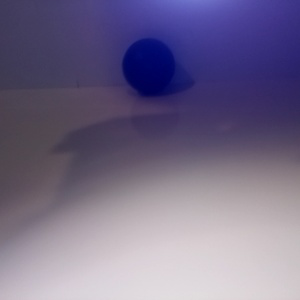dead_ball: (122, 38, 174, 93)
